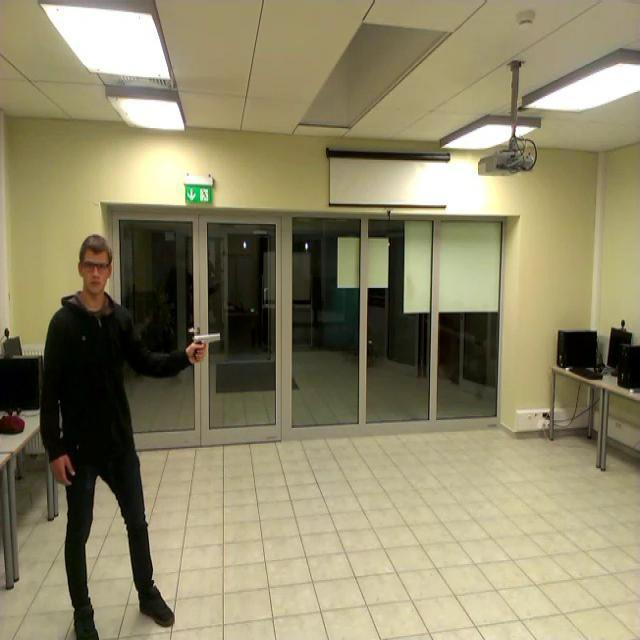weapon: (190, 333, 220, 361)
